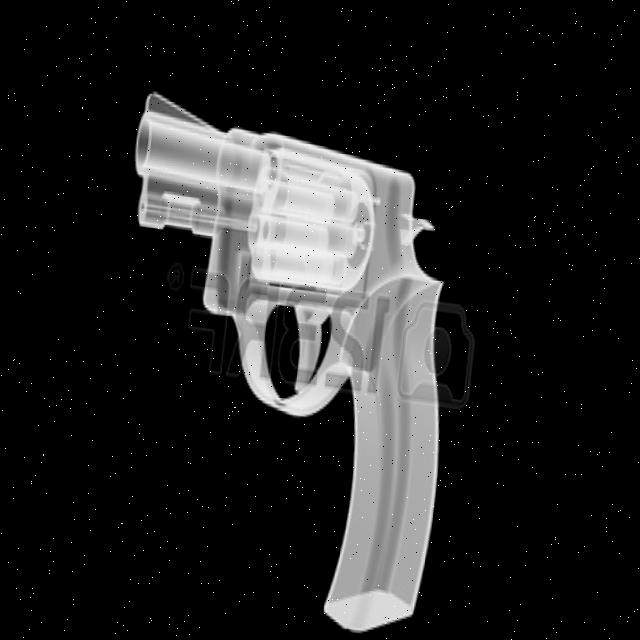pistol: (85, 80, 476, 637)
